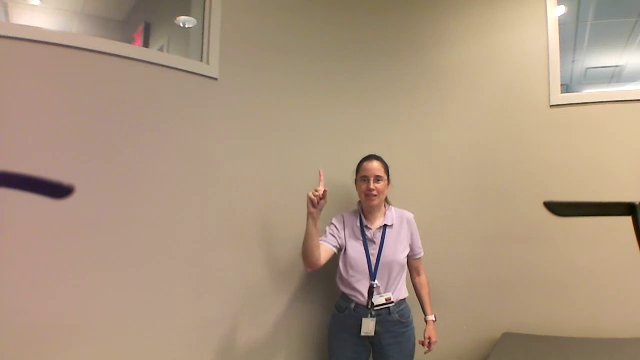up: (304, 163, 331, 214)
